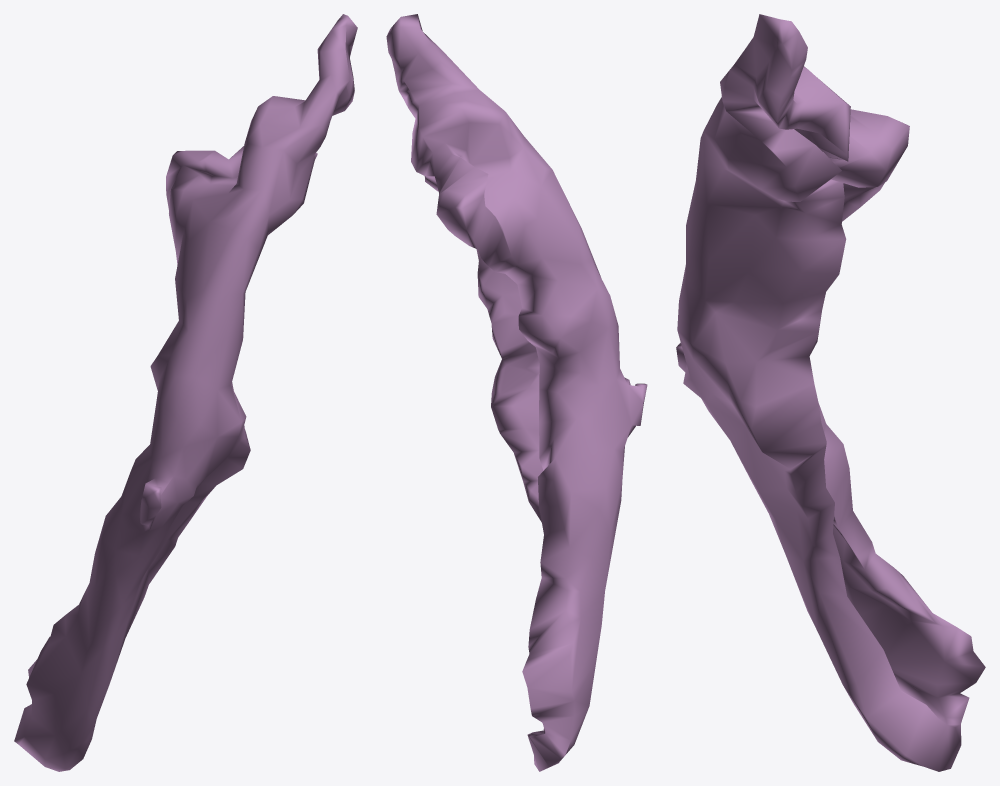
3 renders of one model, left to right at view 1: azimuth 30°, elevation 25°; view 2: azimuth 150°, elevation 25°; view 3: azimuth 270°, elevation 25°, orthographic. The views are drawn at different scales.
Visible parts, largest first — view 1: 右侧侧副沟; view 2: 右侧侧副沟; view 3: 右侧侧副沟.
Part boxes in pixels (x1,y1,x2,y2): 右侧侧副沟: (14, 14, 357, 771); 右侧侧副沟: (386, 14, 647, 771); 右侧侧副沟: (676, 14, 985, 771).
Bounding box in the file's own units: 0.0468 × 0.1223 × 0.0389.
